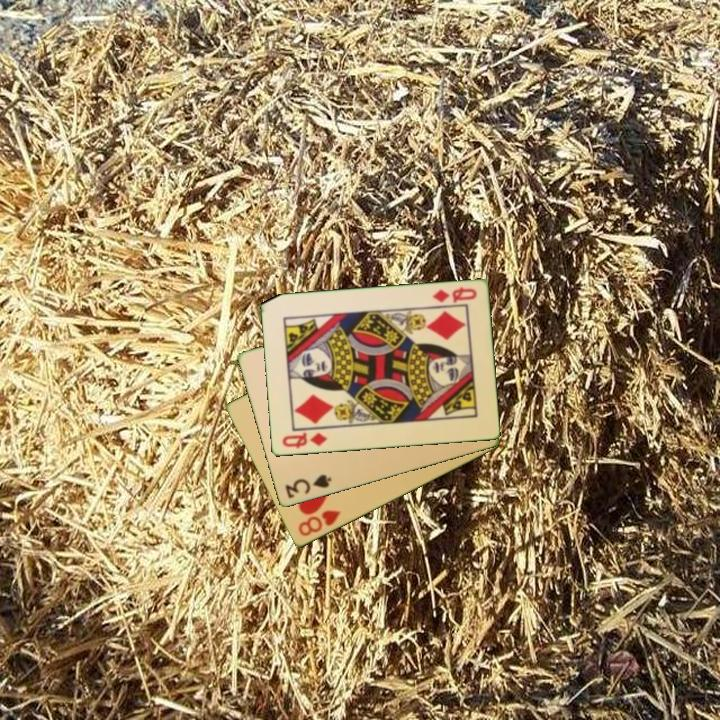3s: (281, 471, 334, 502)
8h: (295, 507, 343, 540)
Qd: (279, 429, 330, 451), (429, 284, 480, 306)
